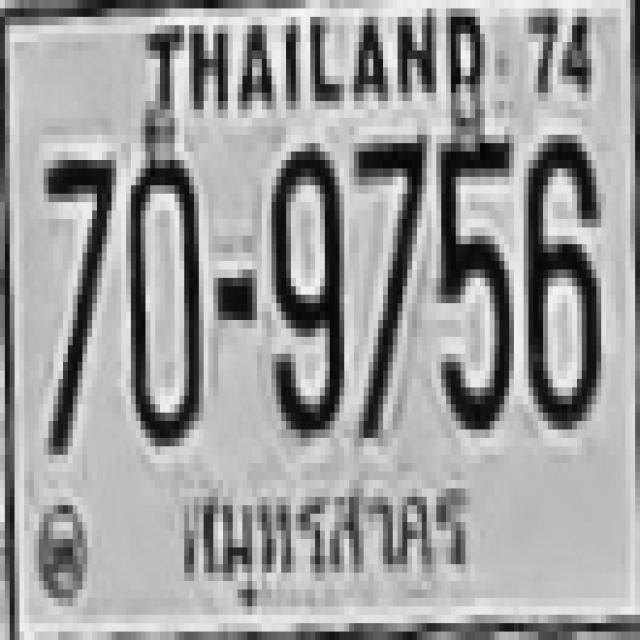0: (126, 151, 199, 438)
5: (436, 126, 509, 430)
6: (524, 126, 596, 421)
7: (41, 152, 114, 446), (352, 135, 424, 429)
9: (267, 135, 339, 429)
SamutSakhon: (172, 467, 472, 611)
